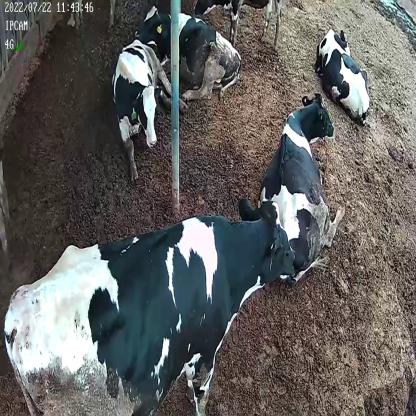cow: (2, 181, 297, 416), (256, 91, 346, 286), (112, 39, 187, 185), (134, 4, 242, 102), (314, 26, 374, 126)
